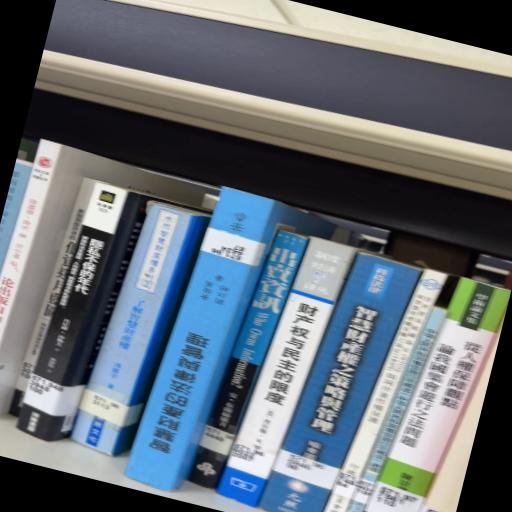reverse: (125, 187, 335, 491)
